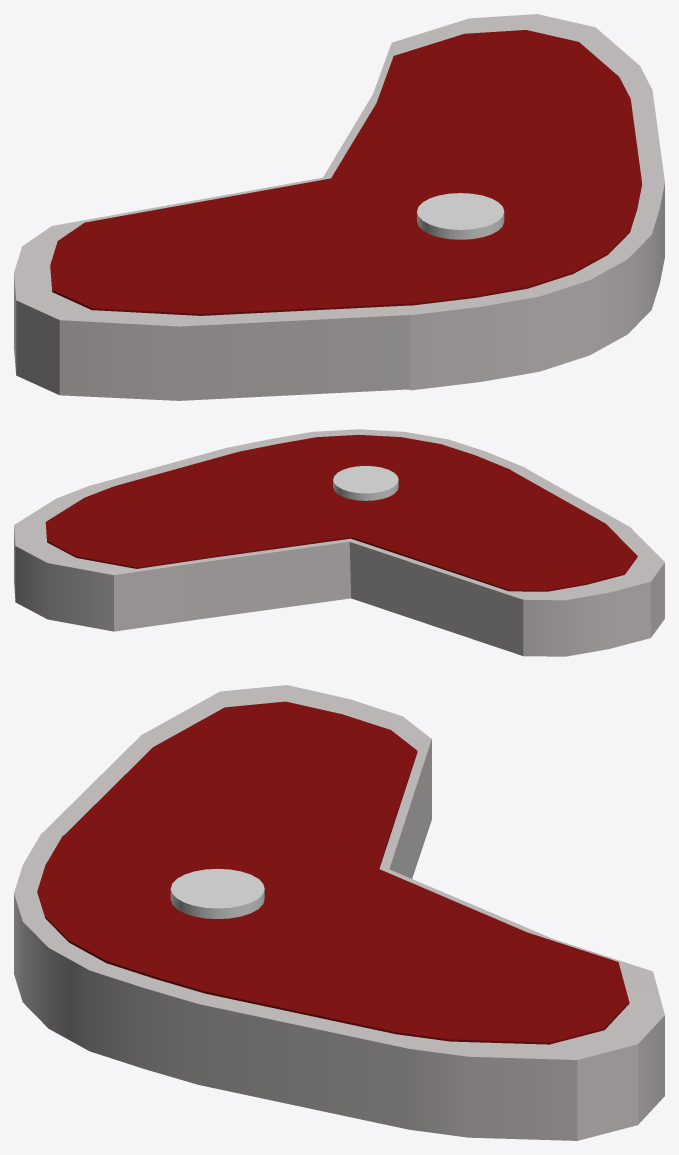
The model's file is meat.obj.
The picture shows the model from 3 angles, top to bottom: view 1: azimuth 30°, elevation 25°; view 2: azimuth 150°, elevation 25°; view 3: azimuth 270°, elevation 25°; orthographic projection. The views are drawn at different scales.
Visible parts, largest first — view 1: Cylinder, Cylinder2, Cylinder1; view 2: Cylinder, Cylinder2, Cylinder1; view 3: Cylinder, Cylinder2, Cylinder1.
Part boxes in pixels (box(x1,y1,x2,y2)): Cylinder: box(50, 30, 641, 315); Cylinder2: box(14, 14, 664, 400); Cylinder1: box(417, 193, 504, 239); Cylinder: box(45, 435, 637, 591); Cylinder2: box(14, 429, 664, 656); Cylinder1: box(333, 466, 398, 500); Cylinder: box(37, 701, 629, 1044); Cylinder2: box(14, 685, 664, 1140); Cylinder1: box(170, 868, 264, 918).
Bounding box in the file's own units: 1.89 × 0.25 × 1.39.
